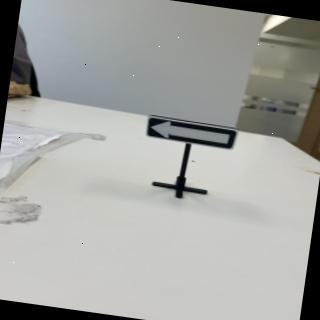sign_oneway_left: (145, 115, 241, 152)
